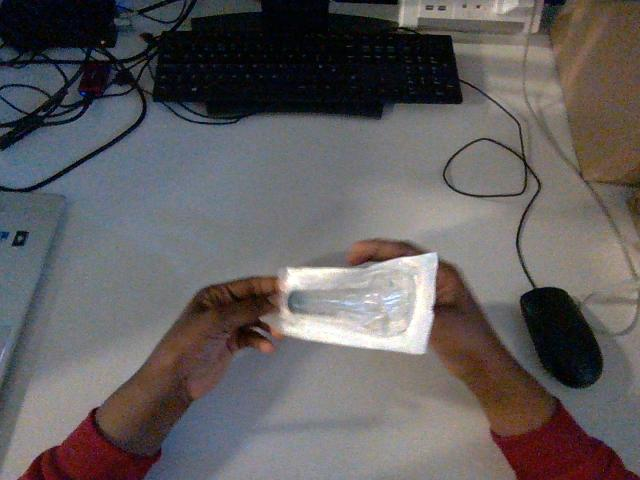syringe: (274, 253, 437, 353)
